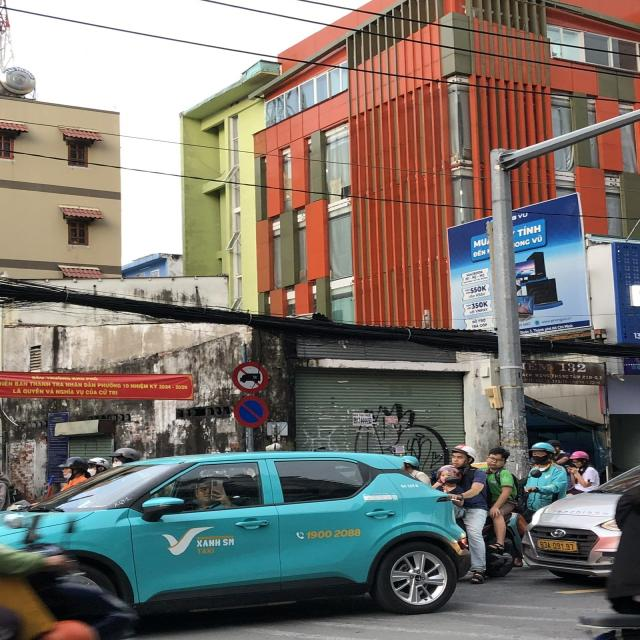Bien bao cam do xe: (233, 394, 272, 429)
Bien bao cam xe oto tai: (232, 360, 270, 393)
